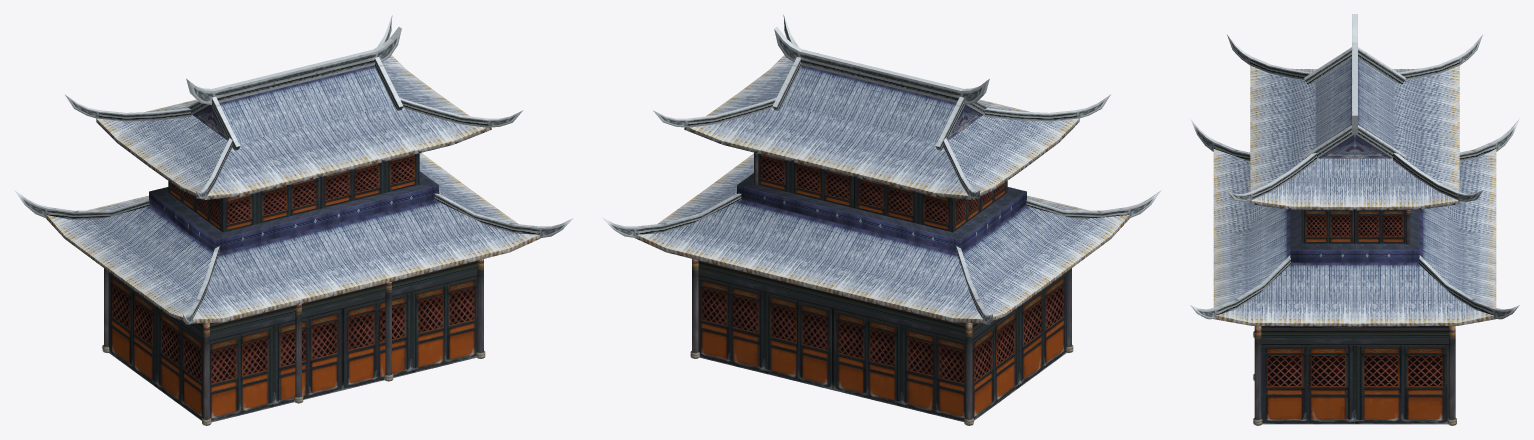
The model's file is jz_louge_05.FBX.
3 views of the same model, side by side, from view 1: azimuth 30°, elevation 25°; view 2: azimuth 150°, elevation 25°; view 3: azimuth 270°, elevation 25° (orthographic). The views are drawn at different scales.
Parts seen in each view (by area): view 1: jz_louge_05; view 2: jz_louge_05; view 3: jz_louge_05.
Boxes of the visible parts, bbox=[...] form: jz_louge_05: bbox=[14, 15, 573, 425]; jz_louge_05: bbox=[602, 14, 1161, 425]; jz_louge_05: bbox=[1190, 14, 1519, 425].
Size of the model in its own units: 2850 by 2095 by 2129.
